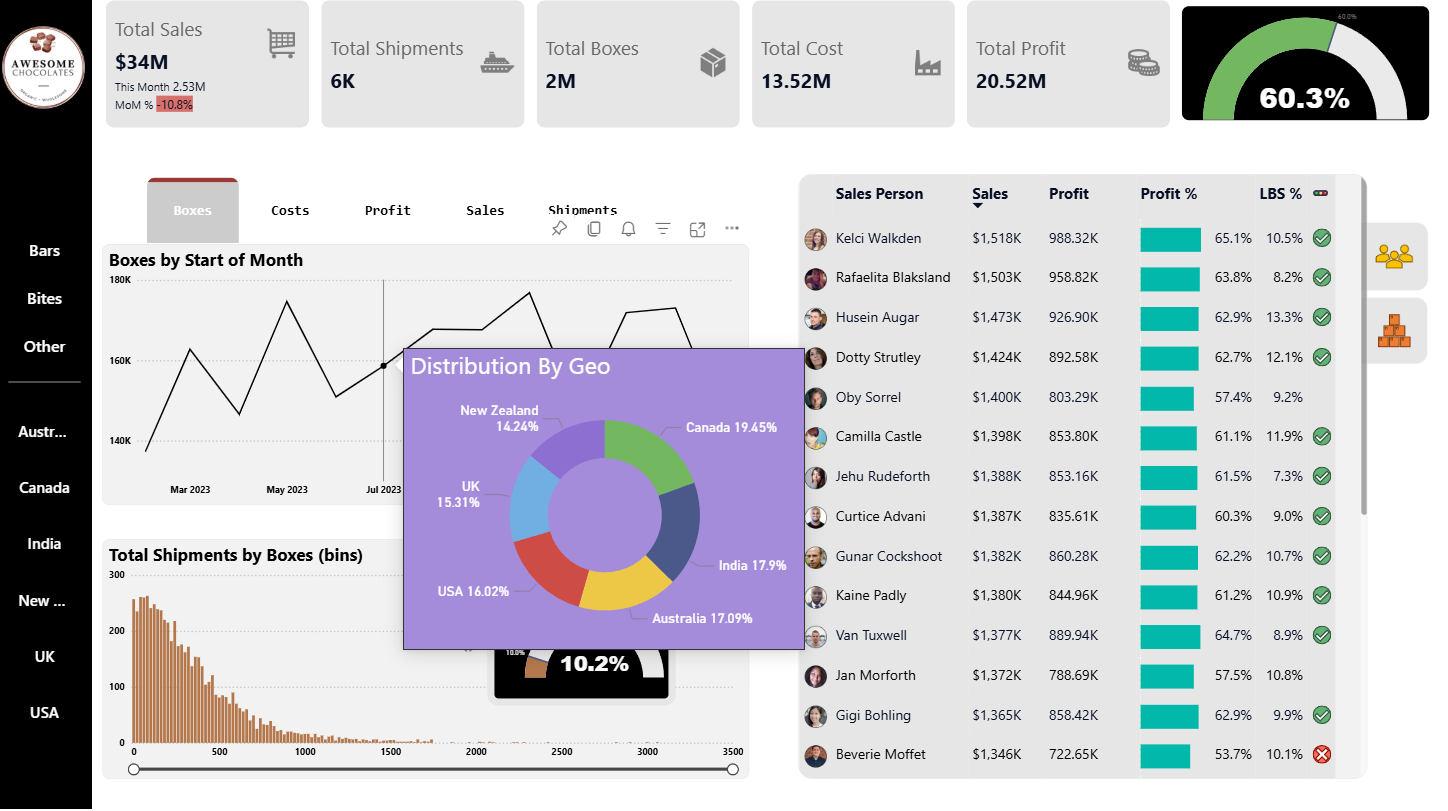

What the dashboard file says about the page in this screenshot:
{"tool":"powerbi","page":{"name":"Sales Report","canvas":[1920,1080],"ordinal":1},"visuals":[{"type":"advancedSlicerVisual","fields":{"Values":["Measure Selector 2.Measure Selector"]},"box":[196,234,652,92],"z":0},{"type":"image","title":"People Icon","box":[1808,294,112,100],"z":1000},{"type":"image","title":"Products Icon","box":[1808,394,112,98],"z":2000},{"type":"shape","box":[0,0,128,1080],"z":3000},{"type":"cardVisual","fields":{"Data":["_measures.Total Sales","_measures.Total Shipments","_measures.Total Boxes","_measures.Total Cost","_measures.Total Profit"]},"box":[142,2,1430,170],"z":4000},{"type":"gauge","fields":{"Y":["_measures.Profit %"]},"box":[1571.4,0,349,171.4],"z":5000},{"type":"lineChart","fields":{"Y":["_measures.Total Sales"],"Category":["calendar.Start of Month"]},"box":[142,326,862,348],"z":6000},{"type":"clusteredColumnChart","fields":{"Category":["shipments.Boxes (bins)"],"Y":["_measures.Total Shipments"]},"box":[142,720,862,320],"z":7000},{"type":"gauge","fields":{"Y":["_measures.LBS %"]},"box":[655,775,251.2,167.5],"z":8000},{"type":"tableEx","title":"People Details","fields":{"Values":["people.Picture","people.Sales person","_measures.Total Sales","_measures.Total Profit","_measures.Profit %","_measures.LBS %","_measures.Profit Target Indicator"]},"box":[1070,234,758,806],"z":9000},{"type":"image","title":"Logo Image","box":[4,10,120,162],"z":11000},{"type":"advancedSlicerVisual","fields":{"Values":["products.Category"]},"box":[16,304,96,188],"z":12000},{"type":"advancedSlicerVisual","fields":{"Values":["locations.Geo"]},"box":[16,540,96,448],"z":13000},{"type":"shape","box":[16,492,96,38],"z":14000},{"type":"image","box":[582,800,96,82],"z":15000}]}

Visuals, with their boxes on the page's 1920x1080 design canvas (x1, y1, x2, y2). These are canvas units, not pixel positions in the 1448x811 screenshot, which may show the page scaled, cropped or inside an application window:
advancedSlicerVisual - Measure Selector 2.Measure Selector: <bbox>196, 234, 848, 326</bbox>
"People Icon" image: <bbox>1808, 294, 1920, 394</bbox>
"Products Icon" image: <bbox>1808, 394, 1920, 492</bbox>
shape: <bbox>0, 0, 128, 1080</bbox>
cardVisual - _measures.Total Sales x _measures.Total Shipments: <bbox>142, 2, 1572, 172</bbox>
gauge - _measures.Profit %: <bbox>1571, 0, 1920, 171</bbox>
lineChart - _measures.Total Sales x calendar.Start of Month: <bbox>142, 326, 1004, 674</bbox>
clusteredColumnChart - shipments.Boxes (bins) x _measures.Total Shipments: <bbox>142, 720, 1004, 1040</bbox>
gauge - _measures.LBS %: <bbox>655, 775, 906, 942</bbox>
"People Details" tableEx: <bbox>1070, 234, 1828, 1040</bbox>
"Logo Image" image: <bbox>4, 10, 124, 172</bbox>
advancedSlicerVisual - products.Category: <bbox>16, 304, 112, 492</bbox>
advancedSlicerVisual - locations.Geo: <bbox>16, 540, 112, 988</bbox>
shape: <bbox>16, 492, 112, 530</bbox>
image: <bbox>582, 800, 678, 882</bbox>
